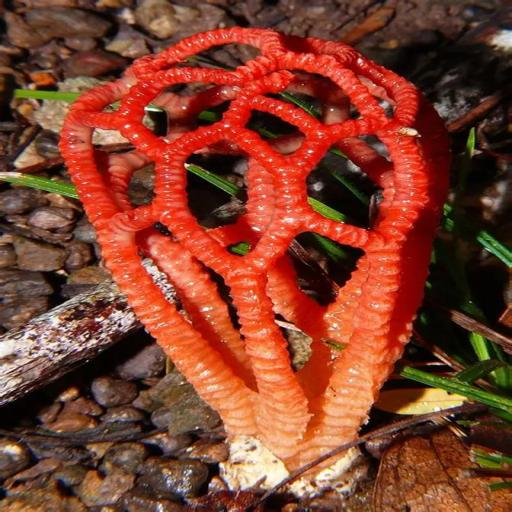Red Cage Fungus: (44, 0, 509, 512)
